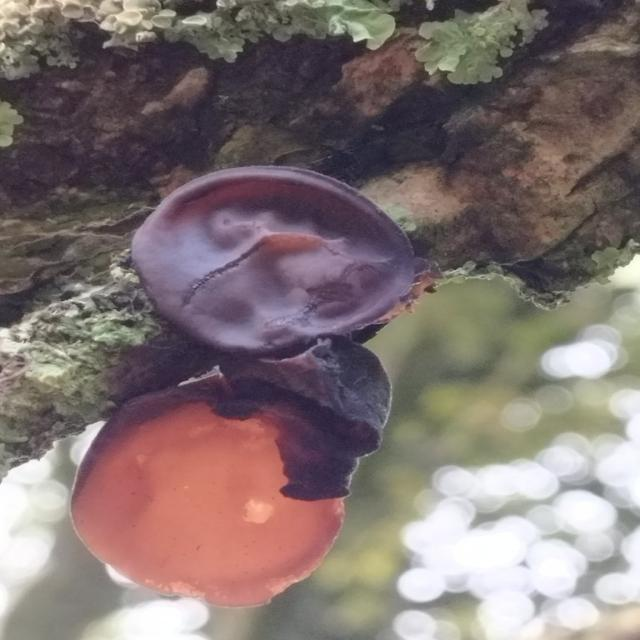Matang: (68, 336, 392, 614), (119, 162, 437, 360)
